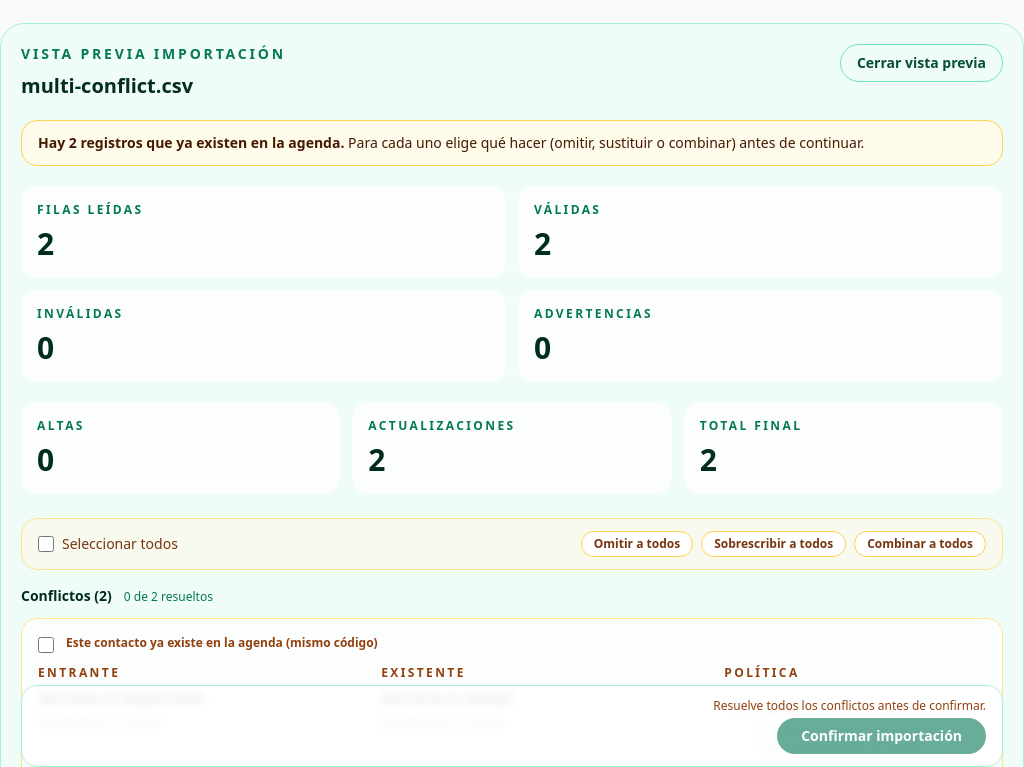
Test: CsvImportPreviewPanel › conflict multi-select and bulk-apply › clicking select-all when all are selected deselects all
// Select all then deselect all
Step 1. Click the checkbox labelled "Seleccionar todos" → point(46, 544), box [38,536,54,552]
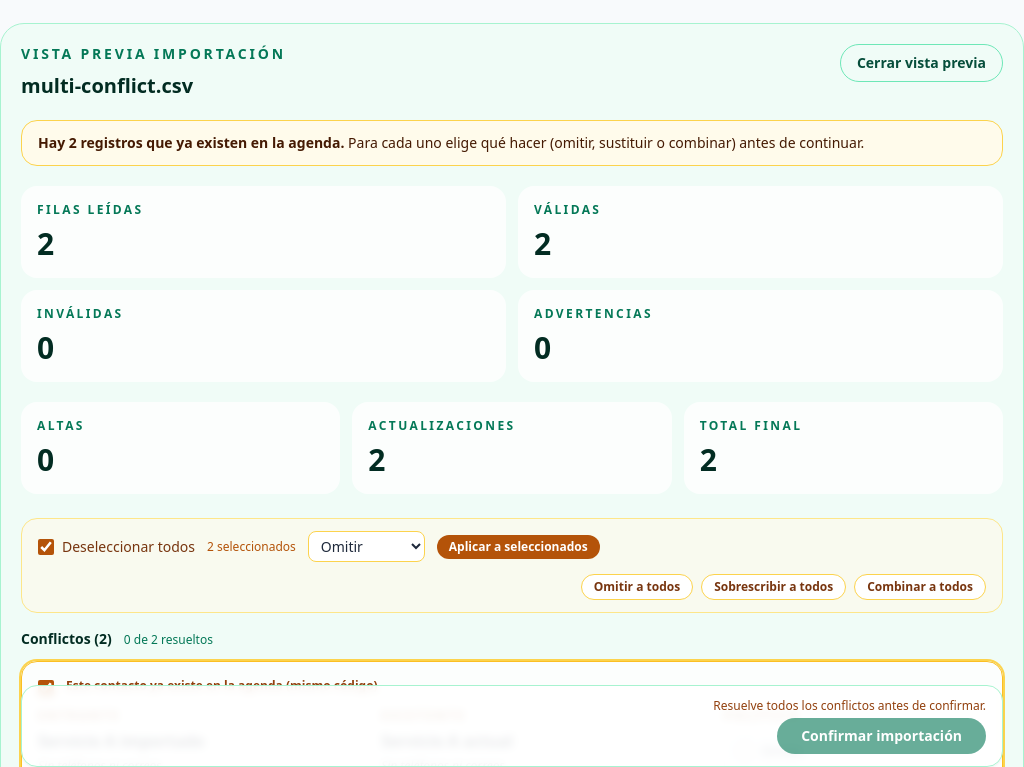
Step 2. Click the checkbox labelled "Deseleccionar todos" → point(46, 546), box [38,538,54,554]
(page scrolled)
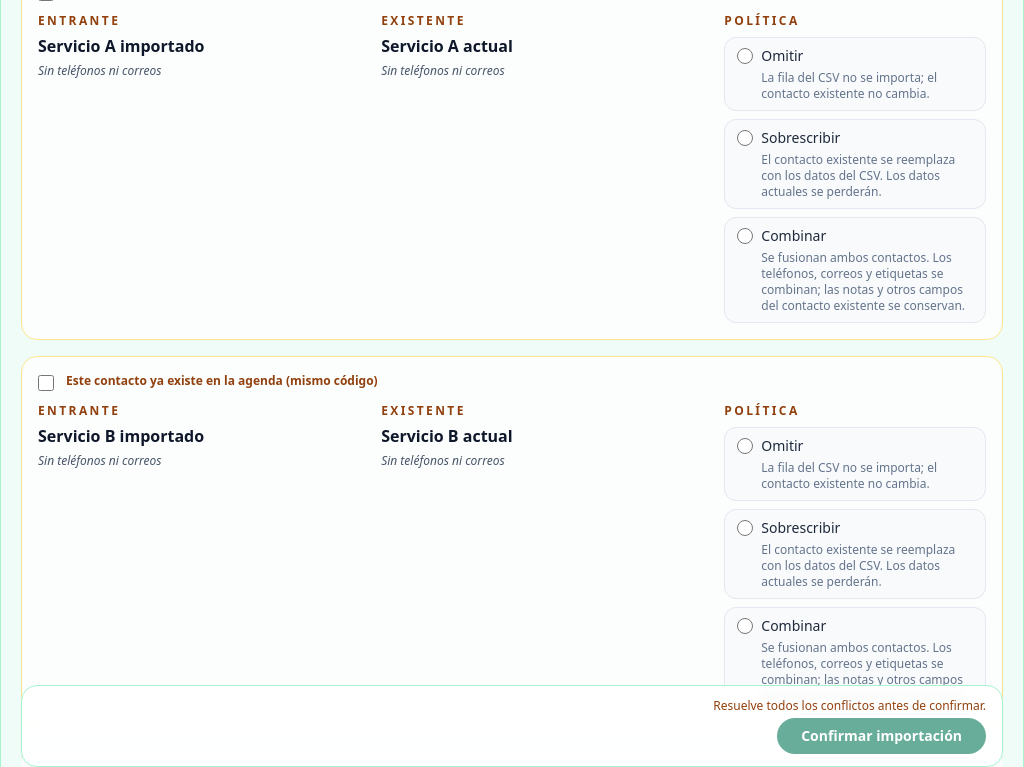
expect the checkbox named "Seleccionar Servicio B importado" is not checked: met, box [38,375,54,391]
